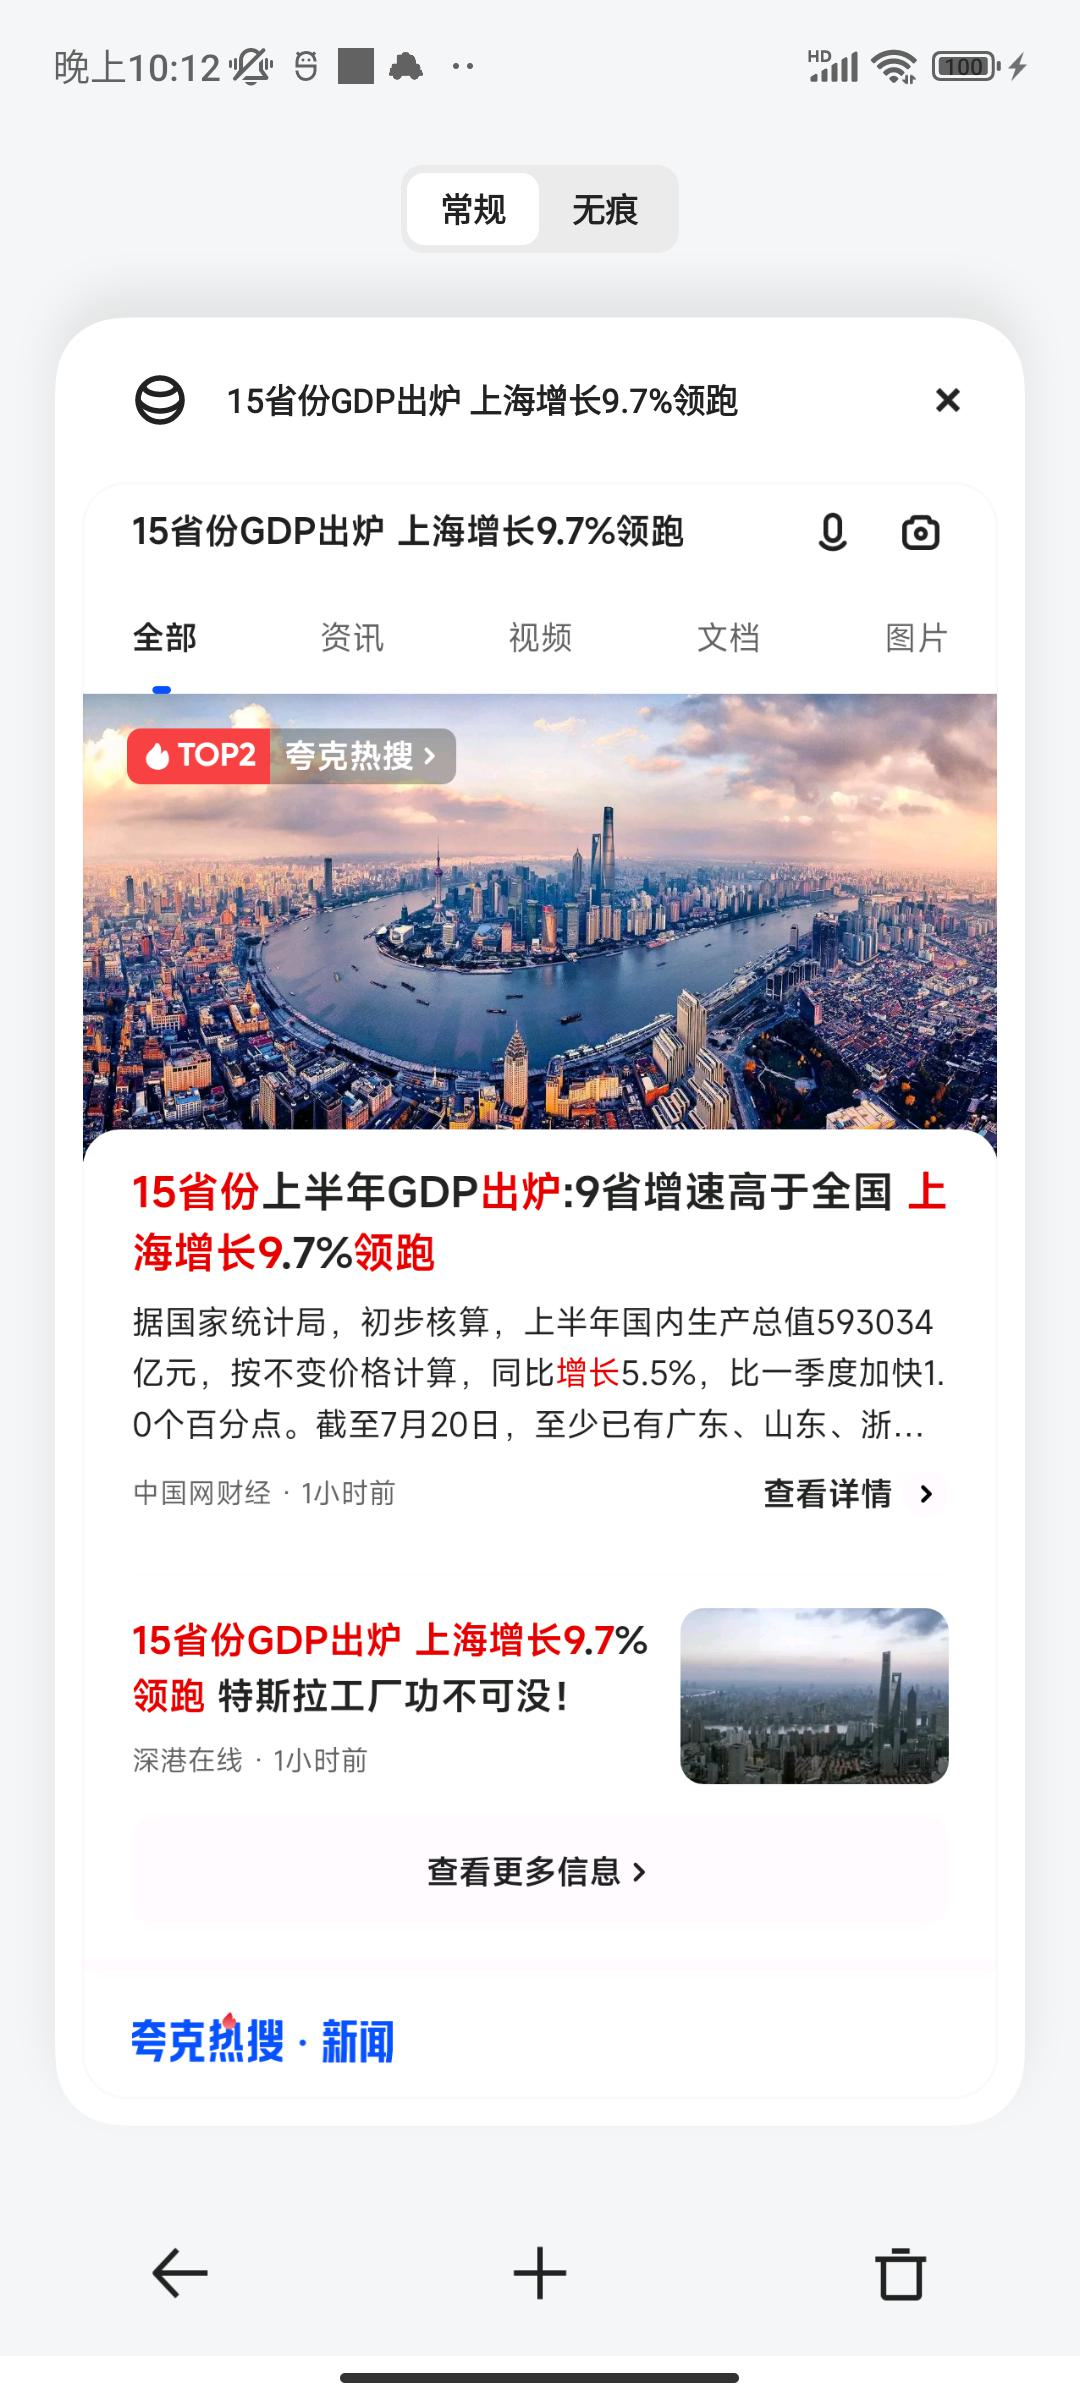ui_group: (89, 1148, 976, 1538), (86, 1551, 985, 1815)
